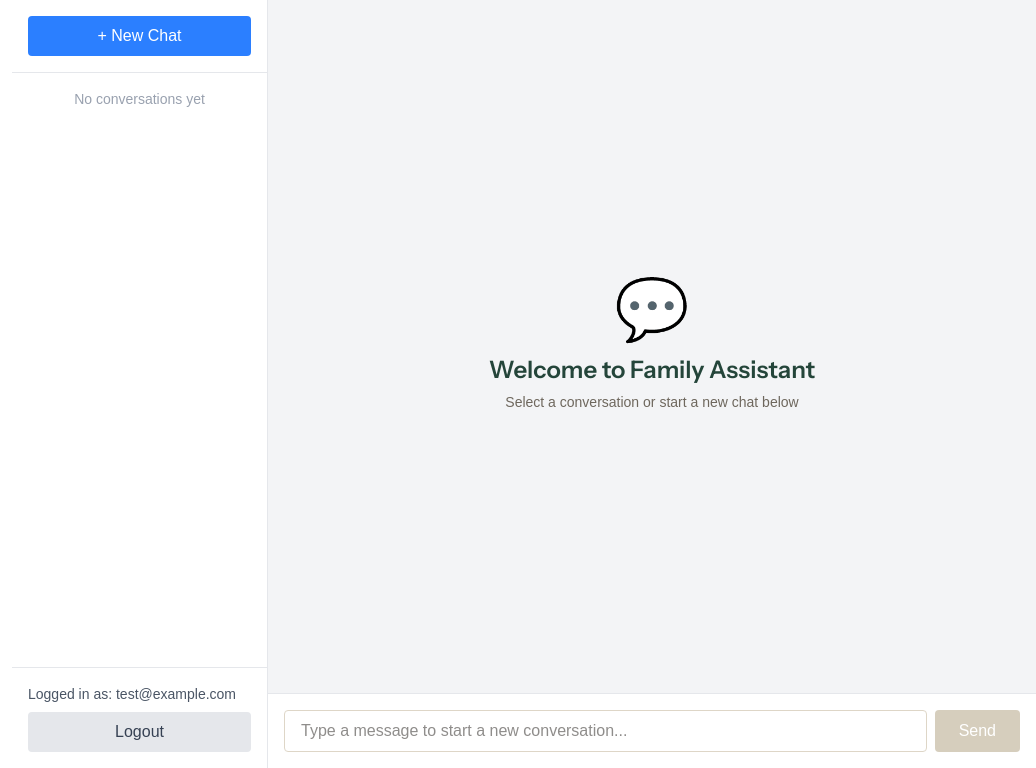
Test case: ConversationsChat › Trust metadata rendering › renders partial annotations safely
Type "What time is it" into the field with placeholder "Type a message to start a new conversation..." at (605, 731), box [284, 710, 927, 752]
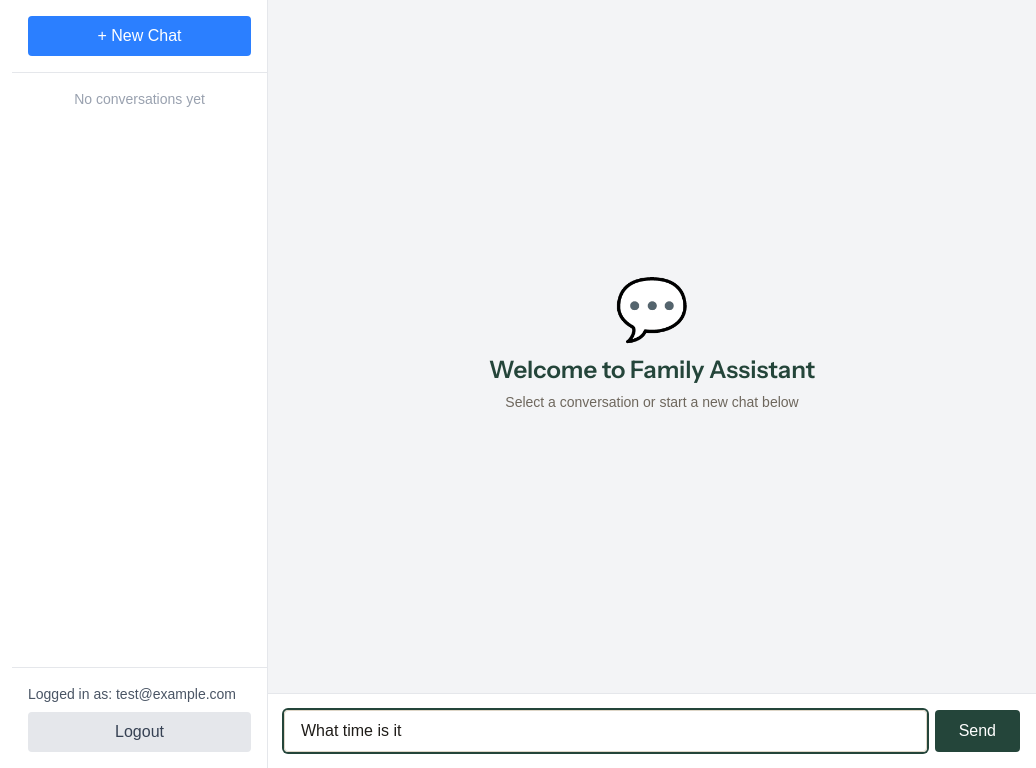
Click the button "Send" at (977, 731), box [935, 710, 1020, 752]
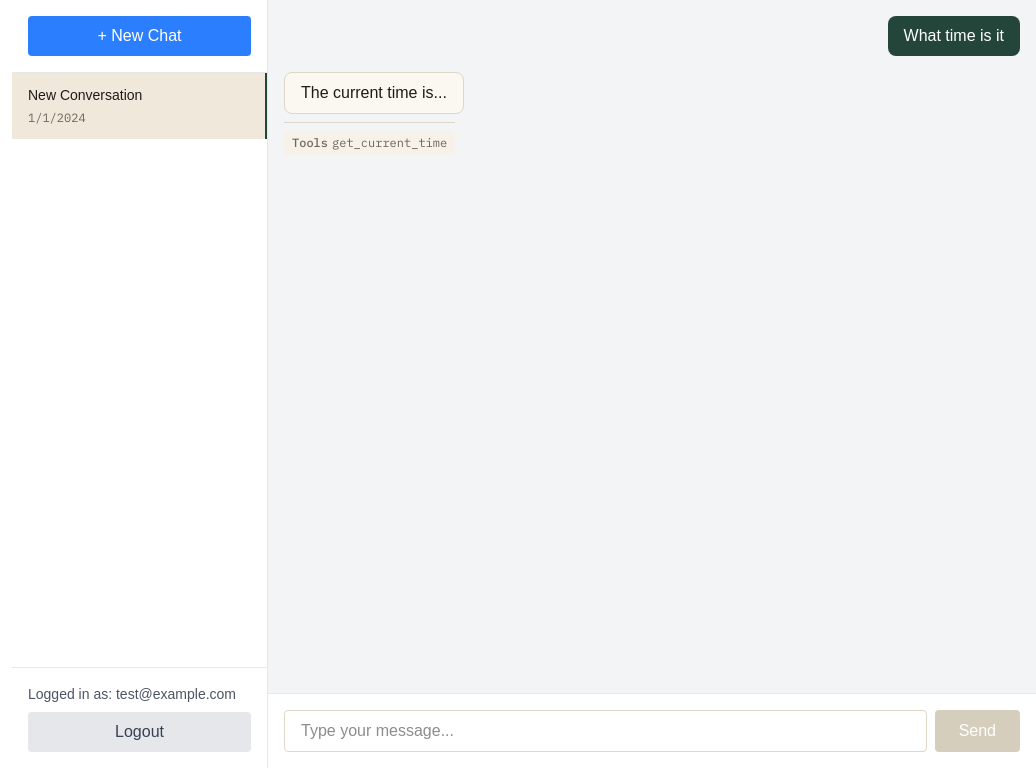
Expected: the text "Tools" is shown, [292, 135, 328, 151]
Expected: the text "get_current_time" is shown, [332, 135, 447, 151]
